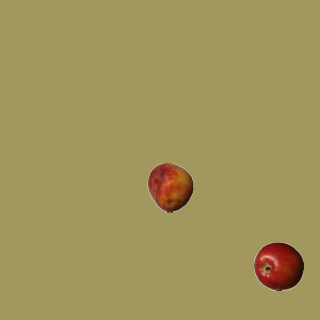Apple Braeburn: (253, 241, 303, 291)
Peach: (145, 162, 195, 212)
